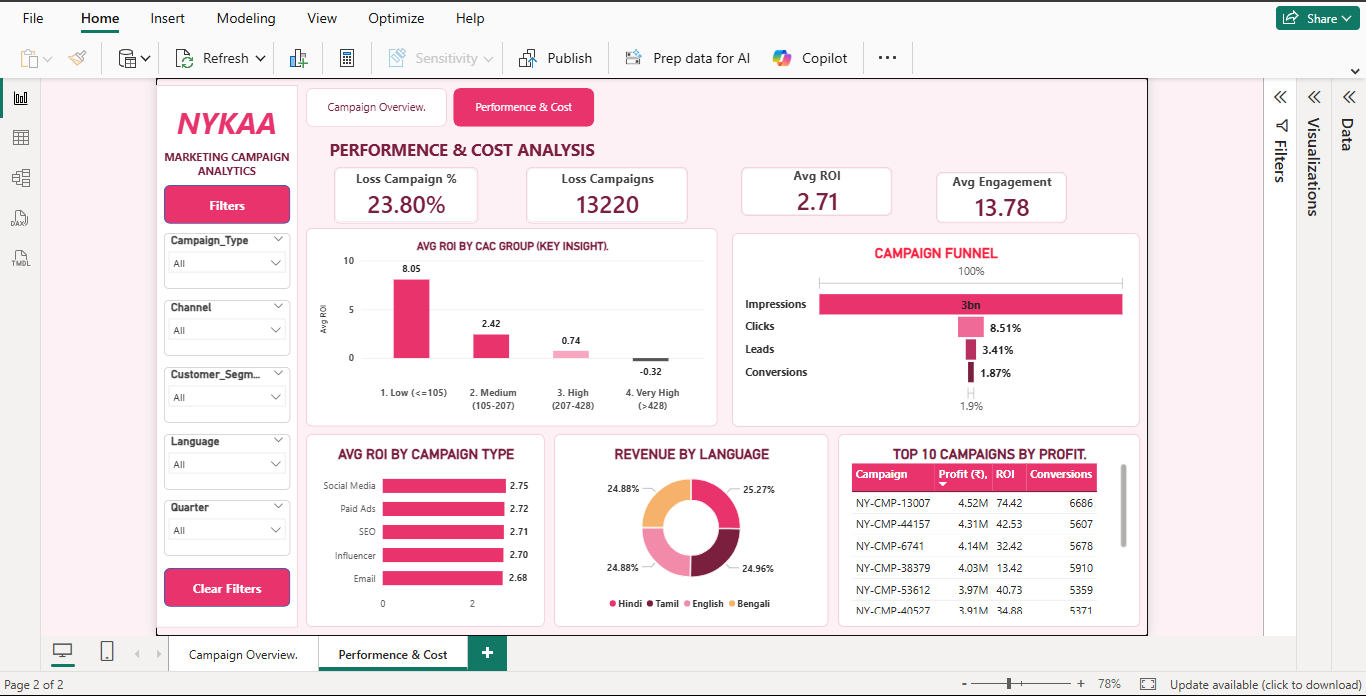

Layout of this report page (visuals, bound fields, positions):
{"tool":"powerbi","page":{"name":"Performence & Cost","canvas":[1280,720],"ordinal":1},"visuals":[{"type":"shape","box":[0,8.5,182.8,700.2],"z":0},{"type":"textbox","box":[0,32.6,182.8,59.5],"z":1000},{"type":"textbox","box":[0,92.1,182.8,45.4],"z":2000},{"type":"shape","box":[9.9,137.5,163,50],"z":3000},{"type":"slicer","fields":{"Values":["campaigns.Campaign_Type"]},"box":[9.9,199.8,163,72.3],"z":4000},{"type":"slicer","fields":{"Values":["campaigns.Year_Month.Variation.Date Hierarchy.Quarter"]},"box":[9.9,544.3,163,72.3],"z":5000},{"type":"slicer","fields":{"Values":["campaigns.Language"]},"box":[9.9,459.2,163,72.3],"z":6000},{"type":"slicer","fields":{"Values":["campaigns.Customer_Segment"]},"box":[9.9,372.8,163,72.3],"z":7000},{"type":"slicer","fields":{"Values":["channel.Channel"]},"box":[9.9,286.3,163,72.3],"z":8000},{"type":"shape","box":[9.9,632.1,163,50],"z":9000},{"type":"pageNavigator","box":[194.2,12.8,372,50],"z":10000},{"type":"textbox","box":[194.2,78,402.5,36.9],"z":11000},{"type":"cardVisual","fields":{"Data":["campaigns.Avg ROI"]},"box":[754.2,114.2,195.4,63.3],"z":12000},{"type":"cardVisual","fields":{"Data":["campaigns.Loss Campaigns"]},"box":[477.6,114.2,209.2,72.9],"z":13000},{"type":"cardVisual","fields":{"Data":["campaigns.Loss Campaign %"]},"box":[229.8,114.2,185.8,72.9],"z":14000},{"type":"cardVisual","fields":{"Data":["campaigns.Avg Engagement"]},"box":[1006.1,121.1,169.3,66.1],"z":15000},{"type":"clusteredColumnChart","title":"AVG ROI BY CAC GROUP (KEY INSIGHT).","fields":{"Category":["campaigns.CAC_Group"],"Y":["campaigns.Avg ROI"]},"box":[194.1,194.1,531.3,256],"z":16000},{"type":"funnel","title":"CAMPAIGN FUNNEL","fields":{"Category":["Funnel.Stage"],"Y":["Funnel.Funnel Value"]},"box":[743.2,199.6,525.8,250.5],"z":17000},{"type":"clusteredBarChart","title":"AVG ROI BY CAMPAIGN TYPE","fields":{"Category":["campaigns.Campaign_Type"],"Y":["campaigns.Avg ROI"]},"box":[194.1,459.7,308.3,249.1],"z":18000},{"type":"donutChart","title":"REVENUE BY LANGUAGE","fields":{"Category":["campaigns.Language"],"Y":["campaigns.Total Revenue"]},"box":[513.4,459.7,353.7,249.1],"z":19000},{"type":"tableEx","title":"TOP 10 CAMPAIGNS BY PROFIT.","fields":{"Values":["campaigns.Campaign_ID","campaigns.Total Profit","campaigns.Avg ROI","Sum(campaigns.Conversions)"]},"box":[879.5,459.7,389.5,249.1],"z":20000}]}

Visuals, with their boxes on the page's 1280x720 design canvas (x1, y1, x2, y2). These are canvas units, not pixel positions in the 1366x696 screenshot, which may show the page scaled, cropped or inside an application window:
shape: {"left": 0, "top": 8, "right": 183, "bottom": 709}
textbox: {"left": 0, "top": 33, "right": 183, "bottom": 92}
textbox: {"left": 0, "top": 92, "right": 183, "bottom": 138}
shape: {"left": 10, "top": 138, "right": 173, "bottom": 188}
slicer - campaigns.Campaign_Type: {"left": 10, "top": 200, "right": 173, "bottom": 272}
slicer - campaigns.Year_Month.Variation.Date Hierarchy.Quarter: {"left": 10, "top": 544, "right": 173, "bottom": 617}
slicer - campaigns.Language: {"left": 10, "top": 459, "right": 173, "bottom": 532}
slicer - campaigns.Customer_Segment: {"left": 10, "top": 373, "right": 173, "bottom": 445}
slicer - channel.Channel: {"left": 10, "top": 286, "right": 173, "bottom": 359}
shape: {"left": 10, "top": 632, "right": 173, "bottom": 682}
pageNavigator: {"left": 194, "top": 13, "right": 566, "bottom": 63}
textbox: {"left": 194, "top": 78, "right": 597, "bottom": 115}
cardVisual - campaigns.Avg ROI: {"left": 754, "top": 114, "right": 950, "bottom": 178}
cardVisual - campaigns.Loss Campaigns: {"left": 478, "top": 114, "right": 687, "bottom": 187}
cardVisual - campaigns.Loss Campaign %: {"left": 230, "top": 114, "right": 416, "bottom": 187}
cardVisual - campaigns.Avg Engagement: {"left": 1006, "top": 121, "right": 1175, "bottom": 187}
"AVG ROI BY CAC GROUP (KEY INSIGHT)." clusteredColumnChart: {"left": 194, "top": 194, "right": 725, "bottom": 450}
"CAMPAIGN FUNNEL" funnel: {"left": 743, "top": 200, "right": 1269, "bottom": 450}
"AVG ROI BY CAMPAIGN TYPE" clusteredBarChart: {"left": 194, "top": 460, "right": 502, "bottom": 709}
"REVENUE BY LANGUAGE" donutChart: {"left": 513, "top": 460, "right": 867, "bottom": 709}
"TOP 10 CAMPAIGNS BY PROFIT." tableEx: {"left": 880, "top": 460, "right": 1269, "bottom": 709}
